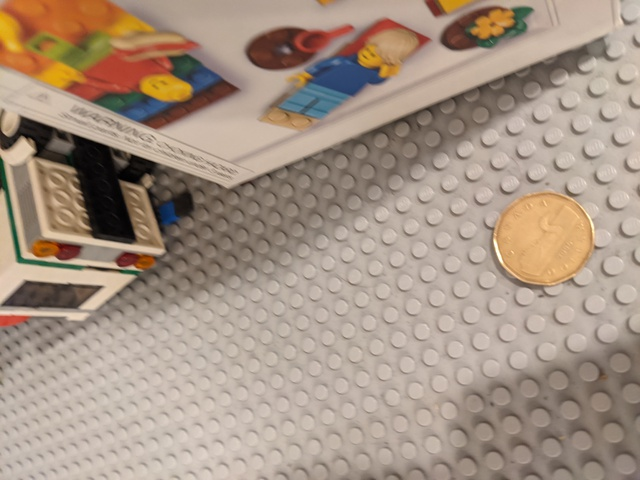loonie: (483, 175, 599, 303)
